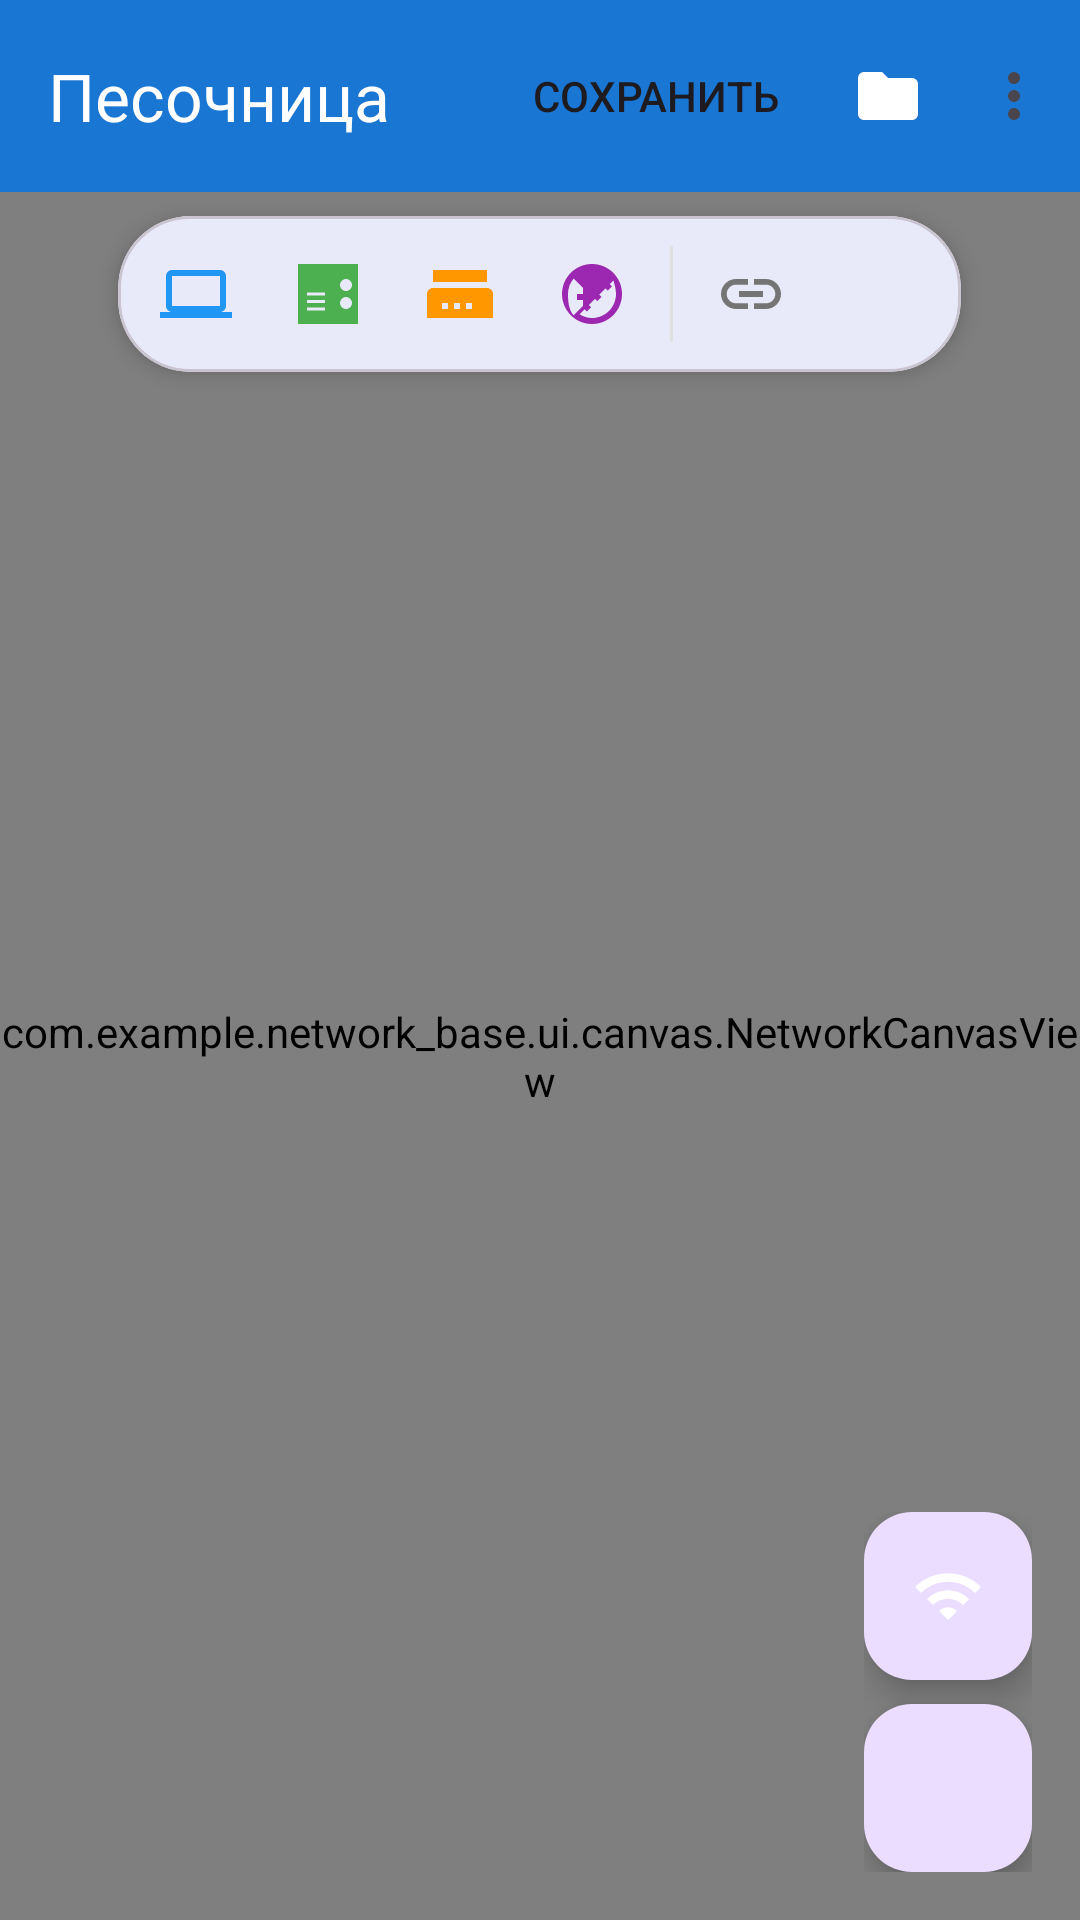

Locate icon controls on the screen. Image size 1080px×1920px, boxes as {"left": x1, "top": y1, "right": x2, "bottom": y2}.
Добавить коммутатор: {"left": 427, "top": 270, "right": 493, "bottom": 318}
Добавить ПК: {"left": 160, "top": 270, "right": 232, "bottom": 318}
Добавить сервер: {"left": 298, "top": 264, "right": 358, "bottom": 324}
Соединить: {"left": 721, "top": 279, "right": 781, "bottom": 309}
